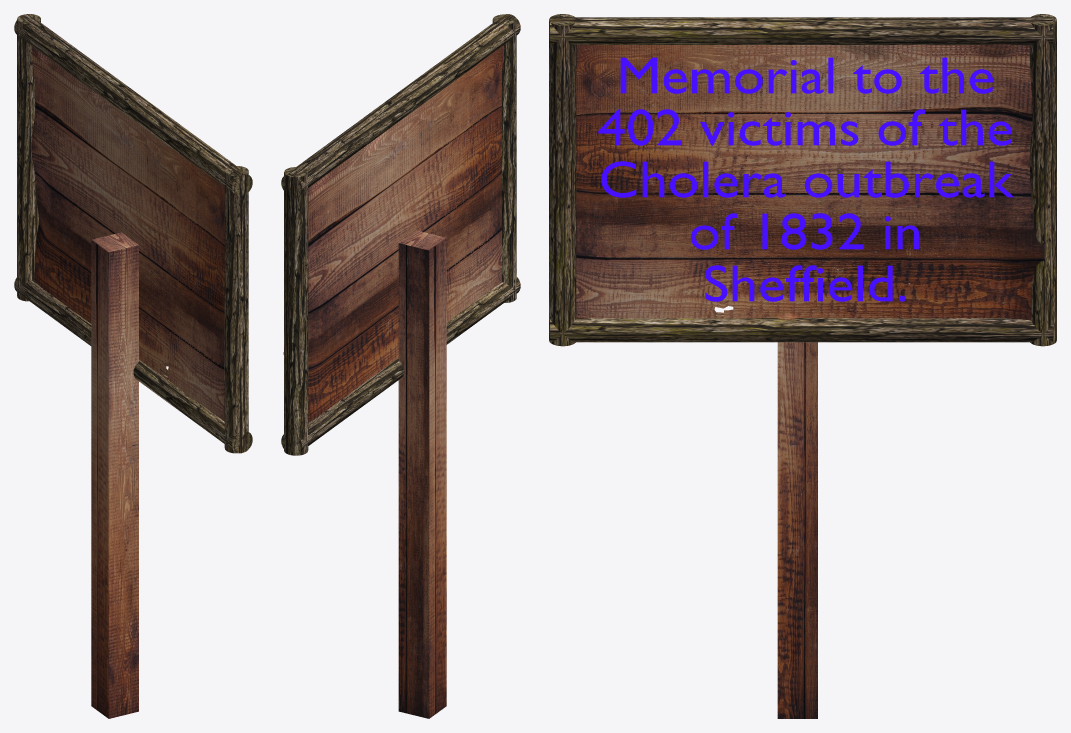
The model's file is Cholera.glb.
3 renders of one model, left to right at view 1: azimuth 30°, elevation 25°; view 2: azimuth 150°, elevation 25°; view 3: azimuth 270°, elevation 25°, orthographic. The views are drawn at different scales.
Parts seen in each view (by area): view 1: Plane_Plane.001, Cube_Cube.001, Cylinder.003, Cylinder.002, Cylinder.004, Cylinder.001; view 2: Plane_Plane.001, Cube_Cube.001, Cylinder.004, Cylinder.003, Cylinder.002, Cylinder.001; view 3: Plane_Plane.001, Text, Cube_Cube.001, Cylinder.003, Cylinder.001, Cylinder.002, Cylinder.004.
Part boxes in pixels (x1,y1,x2,y2): Plane_Plane.001: [31, 46, 224, 421]; Cube_Cube.001: [91, 232, 138, 718]; Cylinder.003: [14, 14, 252, 195]; Cylinder.002: [224, 166, 248, 453]; Cylinder.004: [17, 14, 40, 301]; Cylinder.001: [14, 277, 252, 453]; Plane_Plane.001: [283, 45, 503, 422]; Cube_Cube.001: [398, 230, 446, 718]; Cylinder.004: [284, 167, 308, 455]; Cylinder.003: [281, 14, 520, 194]; Cylinder.002: [492, 14, 516, 302]; Cylinder.001: [281, 277, 520, 453]; Plane_Plane.001: [576, 44, 1045, 320]; Text: [598, 57, 1013, 301]; Cube_Cube.001: [777, 342, 817, 718]; Cylinder.003: [550, 17, 1053, 44]; Cylinder.001: [550, 314, 1053, 342]; Cylinder.002: [549, 14, 576, 346]; Cylinder.004: [1029, 14, 1056, 346].
Bounding box in the file's own units: 0.3738 × 4.6 × 3.01.
4 materials, 3 textured.
